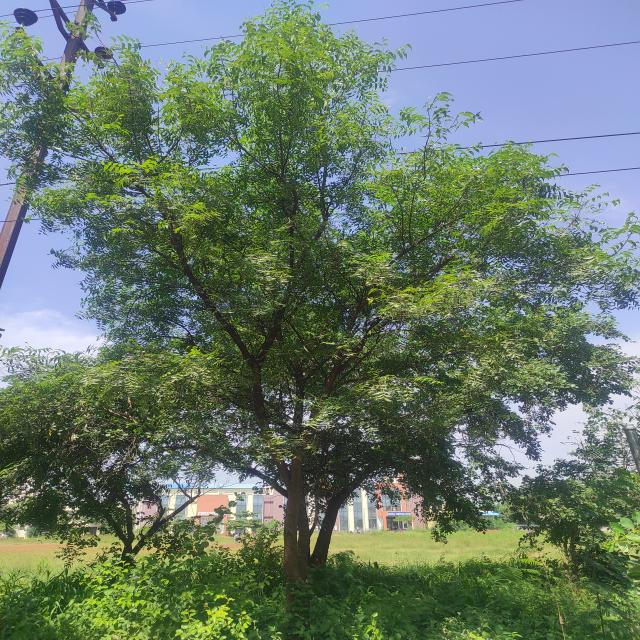Neem-Tree: (72, 60, 603, 448)
